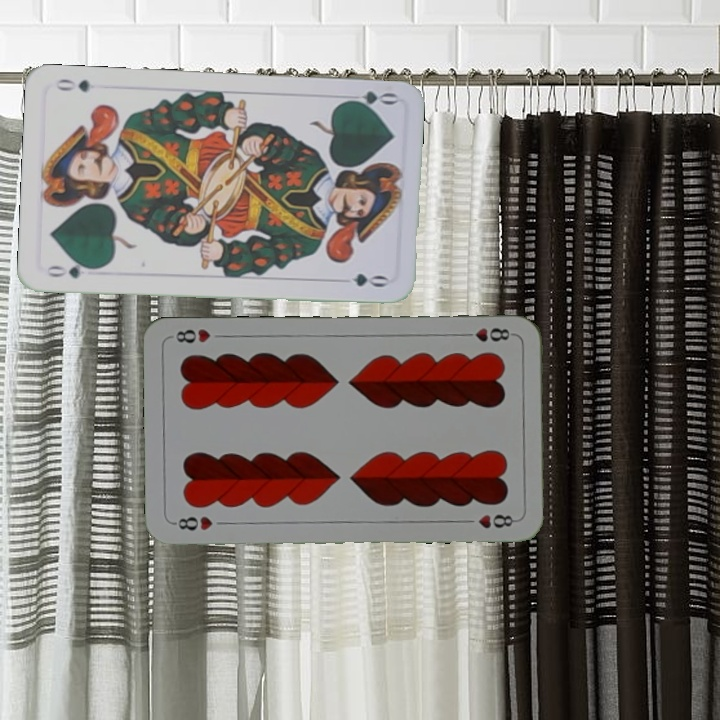GO: (339, 87, 399, 112), (43, 258, 101, 281)
H8: (458, 323, 517, 344), (169, 512, 215, 533)
